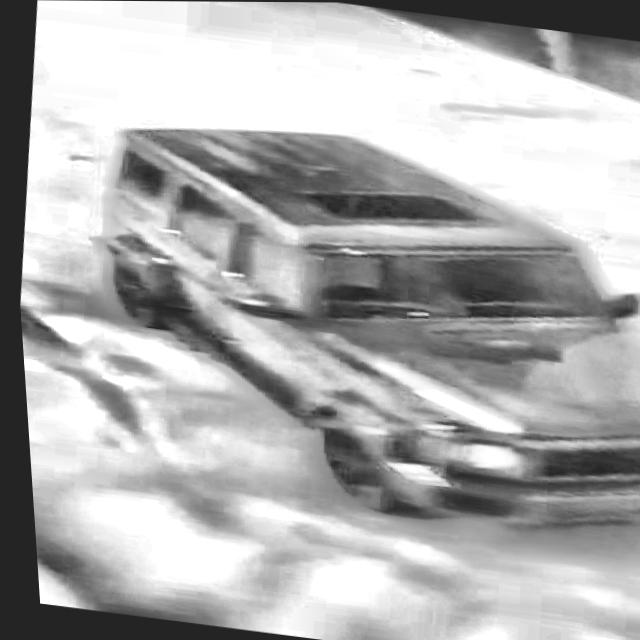light_vehicle: (4, 85, 640, 537)
